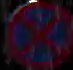No waiting: (7, 0, 72, 69)
